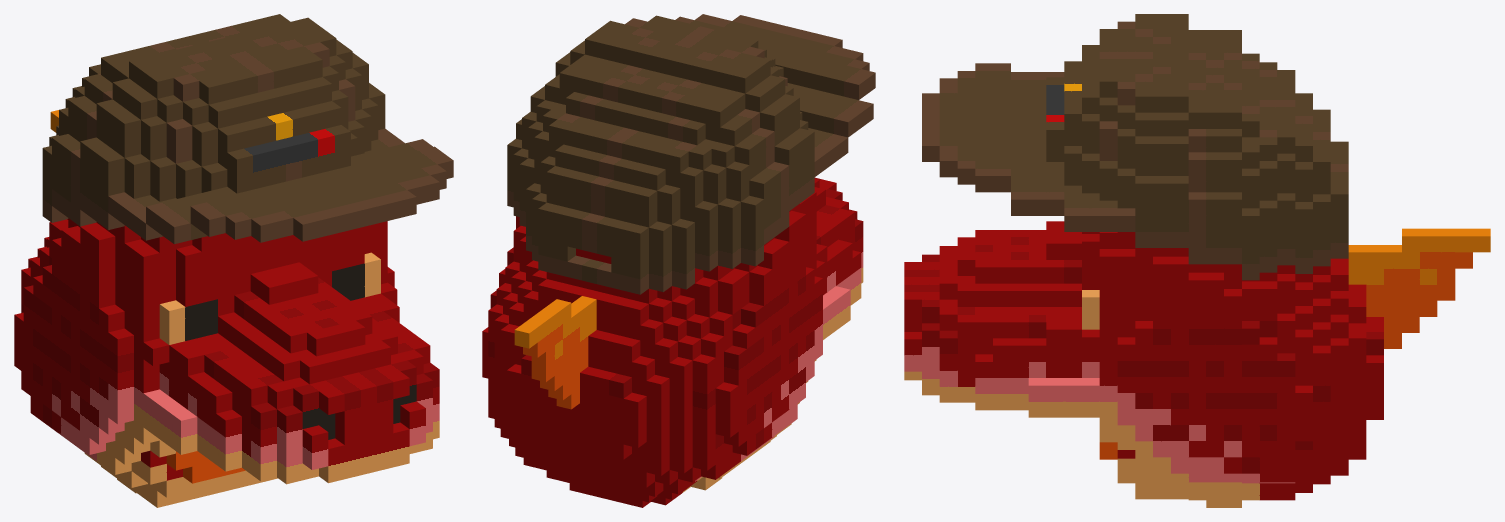
The model's file is wsb hat_vr goggles.gltf.
3 views of the same model, side by side, from view 1: azimuth 30°, elevation 25°; view 2: azimuth 150°, elevation 25°; view 3: azimuth 270°, elevation 25° (orthographic). The views are drawn at different scales.
Parts seen in each view (by area): view 1: C61_H_WSB_RedG_RBSpec_SkyD_LazerL_VRGg-Mesh; view 2: C61_H_WSB_RedG_RBSpec_SkyD_LazerL_VRGg-Mesh; view 3: C61_H_WSB_RedG_RBSpec_SkyD_LazerL_VRGg-Mesh.
Part boxes in pixels (left/top/right/bottom): C61_H_WSB_RedG_RBSpec_SkyD_LazerL_VRGg-Mesh: left=14, top=14, right=453, bottom=507; C61_H_WSB_RedG_RBSpec_SkyD_LazerL_VRGg-Mesh: left=482, top=14, right=875, bottom=507; C61_H_WSB_RedG_RBSpec_SkyD_LazerL_VRGg-Mesh: left=904, top=14, right=1490, bottom=507.
Bounding box in the file's own units: 17 × 26 × 33.
1 material, 1 textured.
